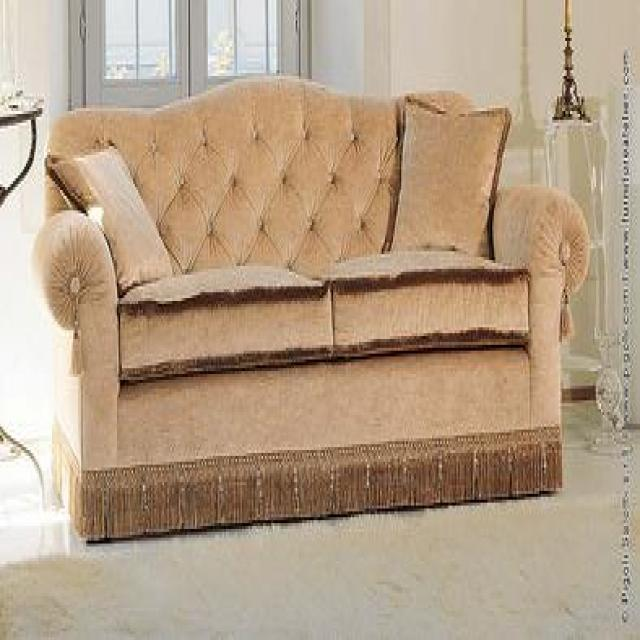sofa: (28, 69, 590, 551)
